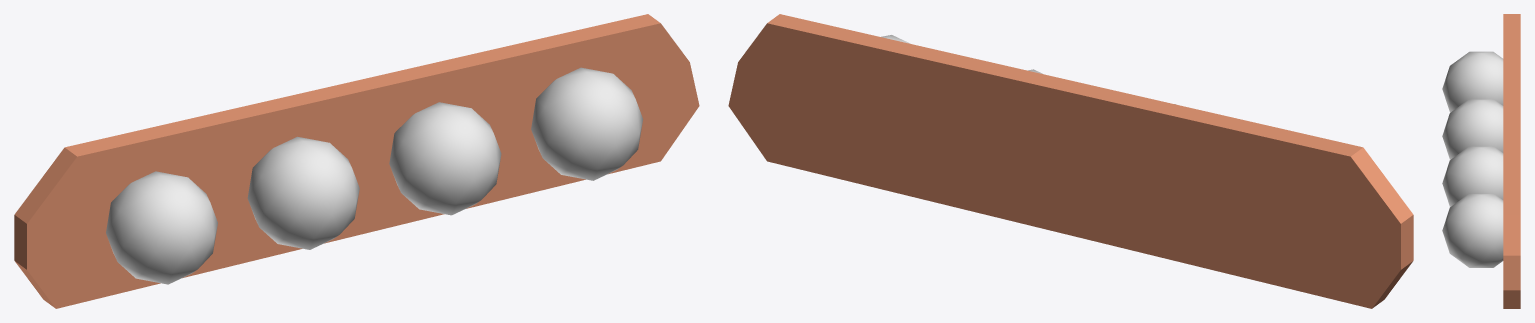
File: lightBathroom.fbx
3 views of the same model, side by side, from view 1: azimuth 30°, elevation 25°; view 2: azimuth 150°, elevation 25°; view 3: azimuth 270°, elevation 25° (orthographic). The views are drawn at different scales.
Visible parts, largest first — view 1: Bathroom Light; view 2: Bathroom Light; view 3: Bathroom Light.
Part boxes in pixels (left/top/right/bottom): Bathroom Light: left=14, top=14, right=699, bottom=308; Bathroom Light: left=728, top=14, right=1413, bottom=308; Bathroom Light: left=1442, top=14, right=1520, bottom=308.
Bounding box in the file's own units: 179 × 26.4 × 37.34.
